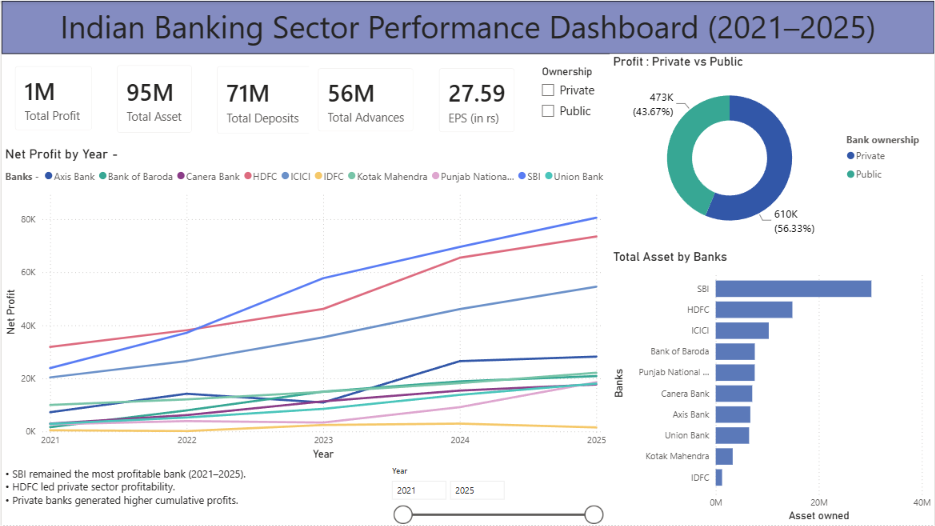

What the dashboard file says about the page in this screenshot:
{"tool":"powerbi","page":{"name":"Executive dashboard","canvas":[1280,720],"ordinal":0},"visuals":[{"type":"cardVisual","fields":{"Data":["Bank data.Total_Asset"]},"box":[141.4,71.4,137.1,127.1],"z":0},{"type":"cardVisual","fields":{"Data":["Bank data.Total_Profit"]},"box":[1.4,72.9,140,122.9],"z":1000},{"type":"cardVisual","fields":{"Data":["Bank data.Total_Deposits"]},"box":[278.6,72.9,167.1,127.1],"z":2000},{"type":"cardVisual","fields":{"Data":["Bank data.Total_Advances"]},"box":[417.1,75.7,165.7,121.4],"z":3000},{"type":"lineChart","title":" Net Profit by Year -","fields":{"Category":["Bank data.Year"],"Y":["Sum(Bank data.Net Profit)"],"Series":["Bank data.Bank_name"]},"box":[0,198.6,834.3,435.7],"z":4000},{"type":"textbox","box":[0,0,1280.3,72.7],"z":5000},{"type":"clusteredBarChart","title":"Total Asset by Banks","fields":{"Category":["Bank data.Bank_name"],"Y":["Bank data.Total_Asset"]},"box":[834.3,340,445.7,380],"z":6000},{"type":"donutChart","title":"Profit : Private vs Public ","fields":{"Y":["Bank data.Total_Profit"],"Category":["Bank data.Type"]},"box":[834.3,72.9,445.7,267.1],"z":7000},{"type":"cardVisual","fields":{"Data":["Avg(Bank data.EPS (in rs))"]},"box":[582.9,75.7,138.6,122.9],"z":8000},{"type":"slicer","fields":{"Values":["Bank data.Type"]},"box":[728.6,84.3,105.7,105.7],"z":9000},{"type":"textbox","box":[0,634.3,522.9,85.7],"z":10000},{"type":"slicer","fields":{"Values":["Bank data.Year"]},"box":[522.9,634.3,311.4,85.7],"z":11000}]}

Visuals, with their boxes in screenshot pixels (x1, y1, x2, y2), scaled from the page's 1280x720 canvas onto the 935x526 screenshot:
cardVisual - Bank data.Total_Asset: locate(103, 52, 203, 145)
cardVisual - Bank data.Total_Profit: locate(1, 53, 103, 143)
cardVisual - Bank data.Total_Deposits: locate(204, 53, 326, 146)
cardVisual - Bank data.Total_Advances: locate(305, 55, 426, 144)
" Net Profit by Year -" lineChart: locate(0, 145, 609, 463)
textbox: locate(0, 0, 934, 53)
"Total Asset by Banks" clusteredBarChart: locate(609, 248, 934, 525)
"Profit : Private vs Public " donutChart: locate(609, 53, 934, 248)
cardVisual - Avg(Bank data.EPS (in rs)): locate(426, 55, 527, 145)
slicer - Bank data.Type: locate(532, 62, 609, 139)
textbox: locate(0, 463, 382, 525)
slicer - Bank data.Year: locate(382, 463, 609, 525)
